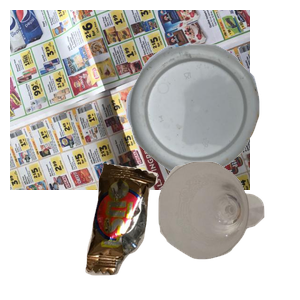glass: (156, 159, 300, 300)
paper: (10, 10, 250, 190)
plastic: (124, 42, 300, 210)
trash: (83, 160, 233, 300)
